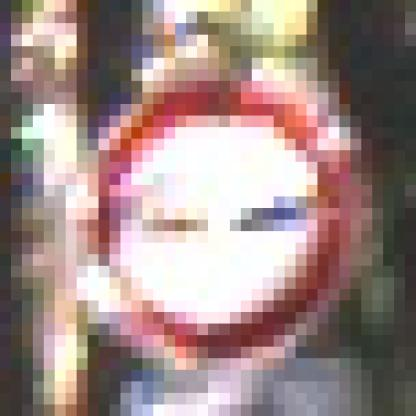No Overtaking: (56, 59, 362, 359)
